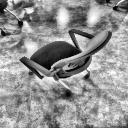chair_success: (17, 27, 115, 98)
